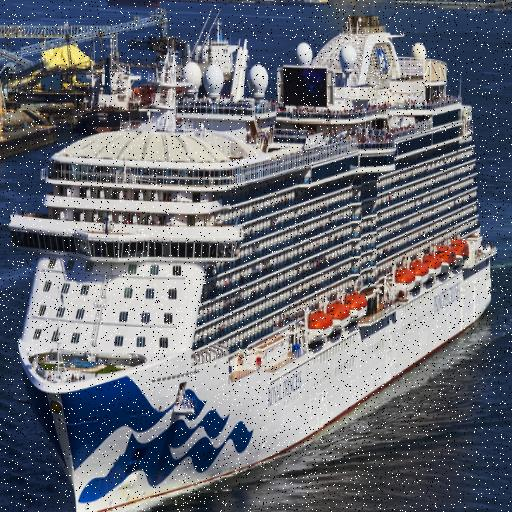cruises: (6, 7, 499, 512)
